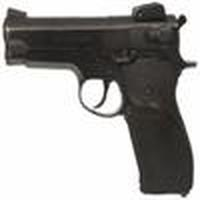gun: (2, 4, 200, 199)
